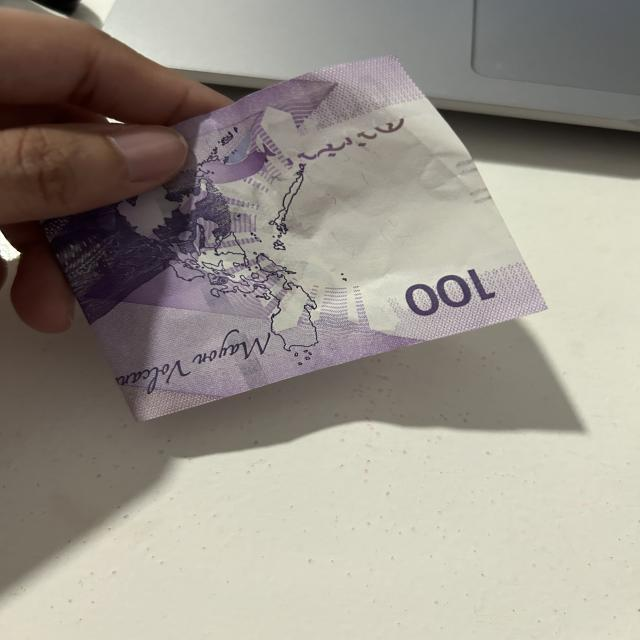100_whale_watermark: (192, 146, 268, 188)
